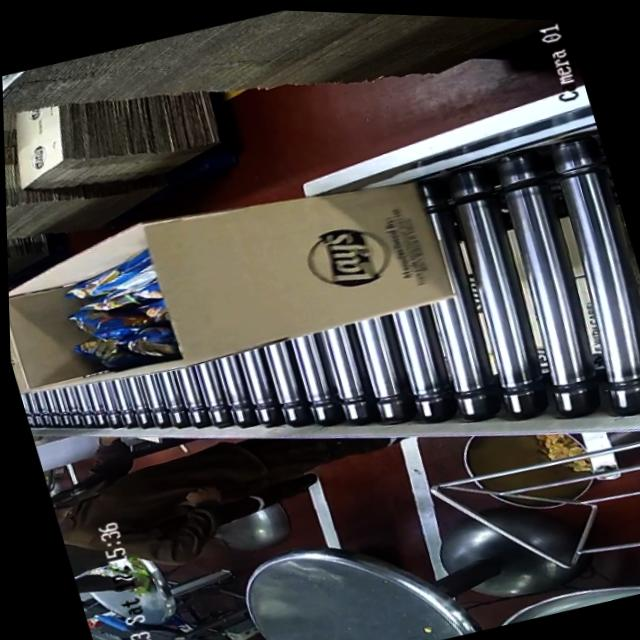PAPRIKA: (42, 234, 184, 388)
